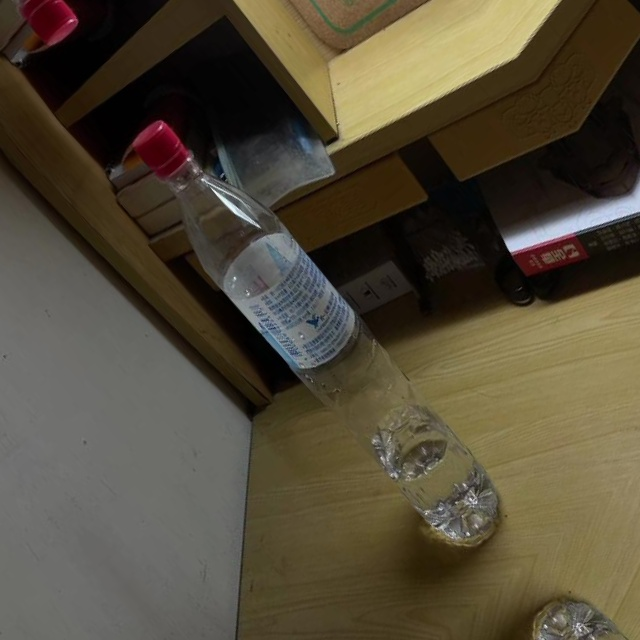Water: (110, 101, 520, 566)
